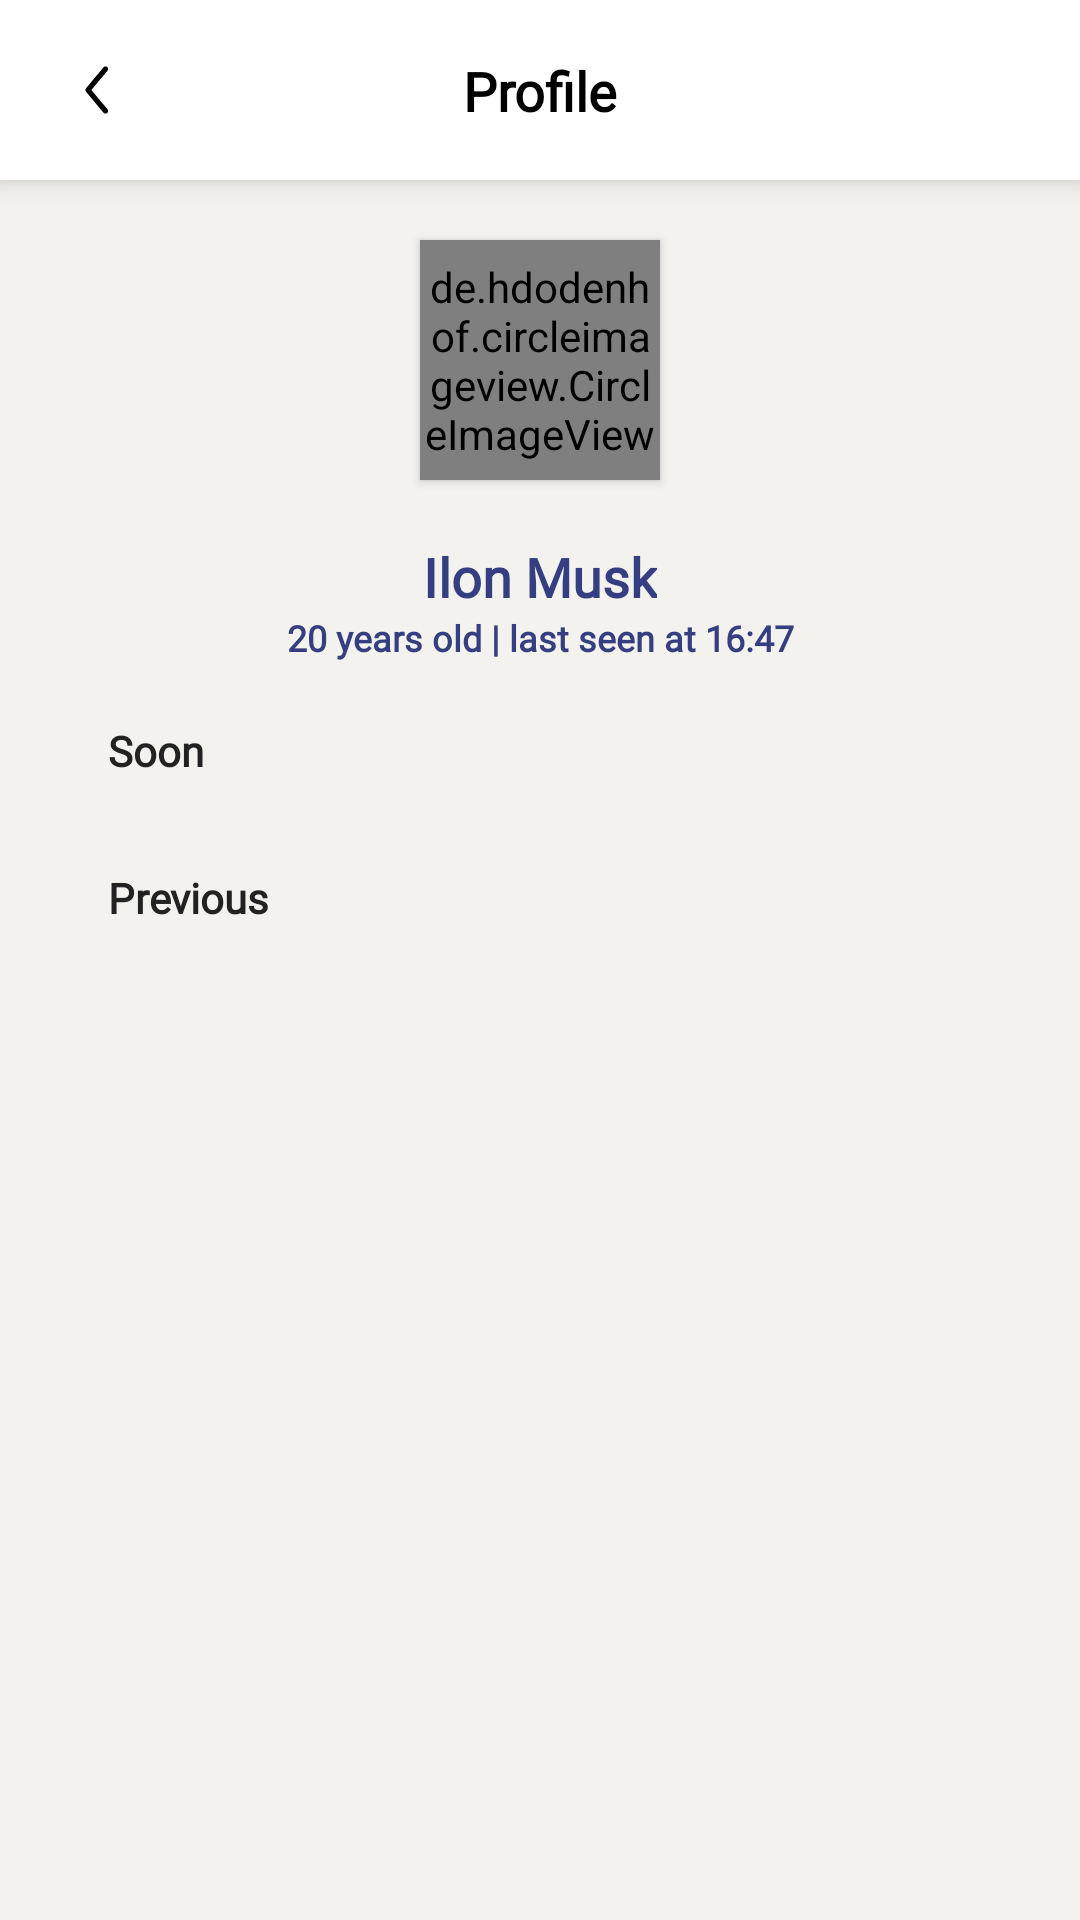

Icons on this 1080 × 1920 Android screen, each with the point to tap as point (x, y):
back: point (96, 90)
